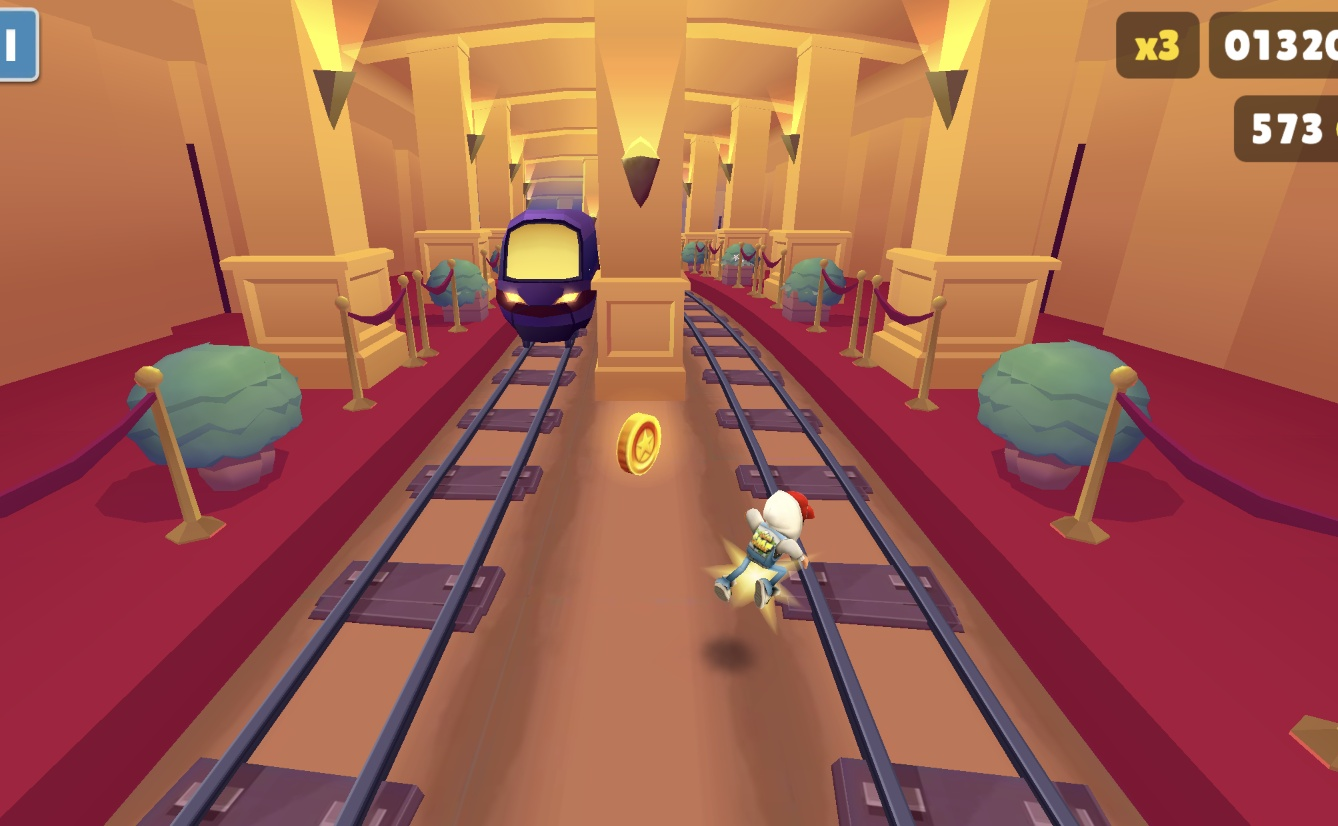pillar: (597, 0, 701, 419)
train: (497, 207, 604, 359)
